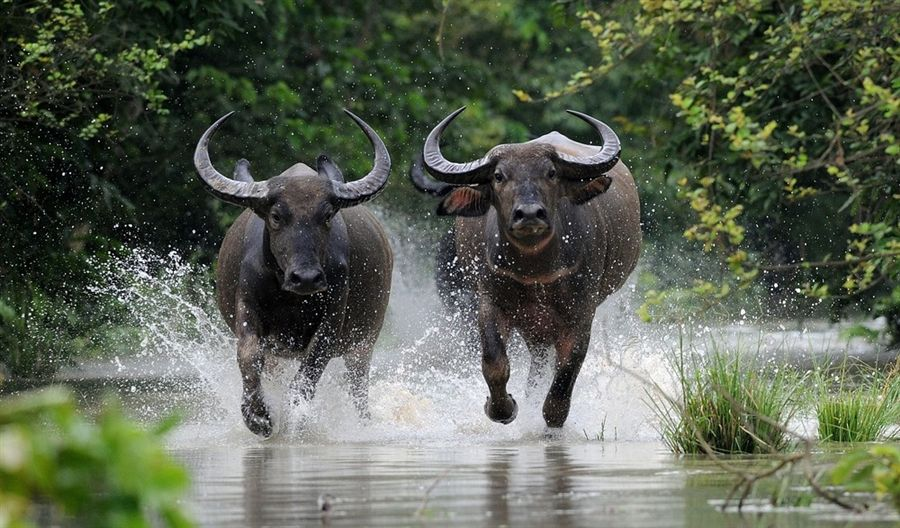buffalo: (413, 96, 660, 434), (195, 112, 400, 432)
